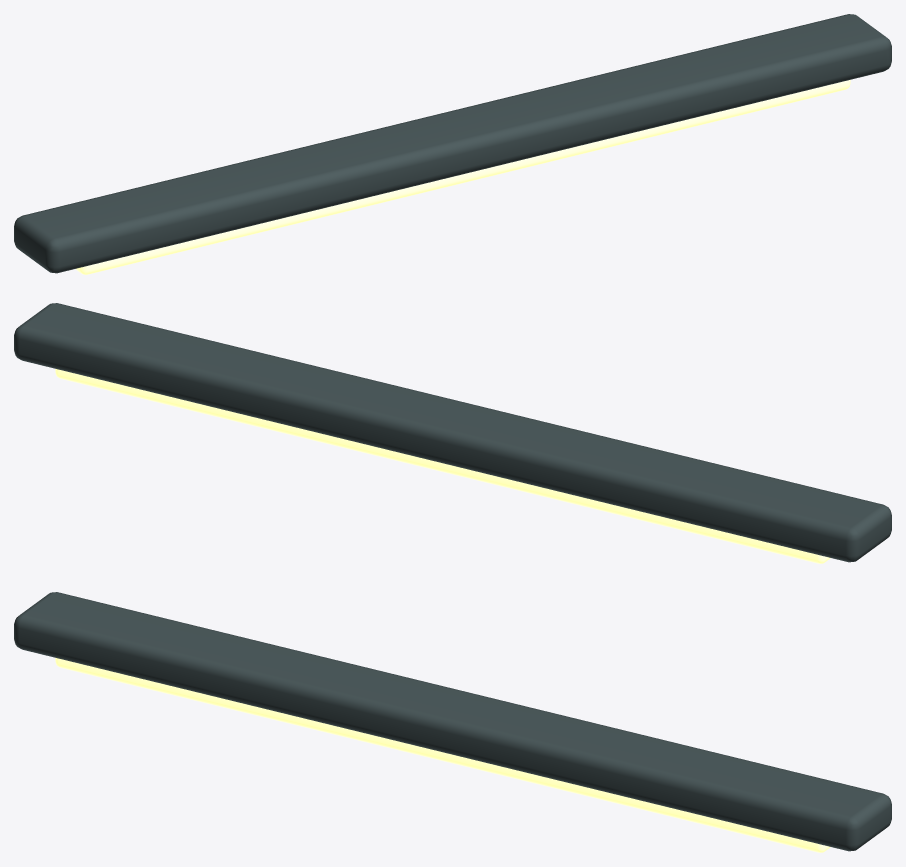
Rendered from ceiling-light-2m.glb.
3 renders of one model, top to bottom at view 1: azimuth 30°, elevation 25°; view 2: azimuth 150°, elevation 25°; view 3: azimuth 330°, elevation 25°, orthographic.
Parts seen in each view (by area): view 1: ceiling-light-2m / 06 • dark anodized frame, ceiling-light-2m / 09 • warm diffuser; view 2: ceiling-light-2m / 06 • dark anodized frame, ceiling-light-2m / 09 • warm diffuser; view 3: ceiling-light-2m / 06 • dark anodized frame, ceiling-light-2m / 09 • warm diffuser.
Part boxes in pixels (<box>): ceiling-light-2m / 06 • dark anodized frame: <box>14,14,891,273</box>; ceiling-light-2m / 09 • warm diffuser: <box>75,80,850,274</box>; ceiling-light-2m / 06 • dark anodized frame: <box>14,303,891,562</box>; ceiling-light-2m / 09 • warm diffuser: <box>55,369,830,563</box>; ceiling-light-2m / 06 • dark anodized frame: <box>14,592,891,851</box>; ceiling-light-2m / 09 • warm diffuser: <box>55,658,830,852</box>.
Size of the model in its own units: 1.8 by 0.0955 by 0.15.
